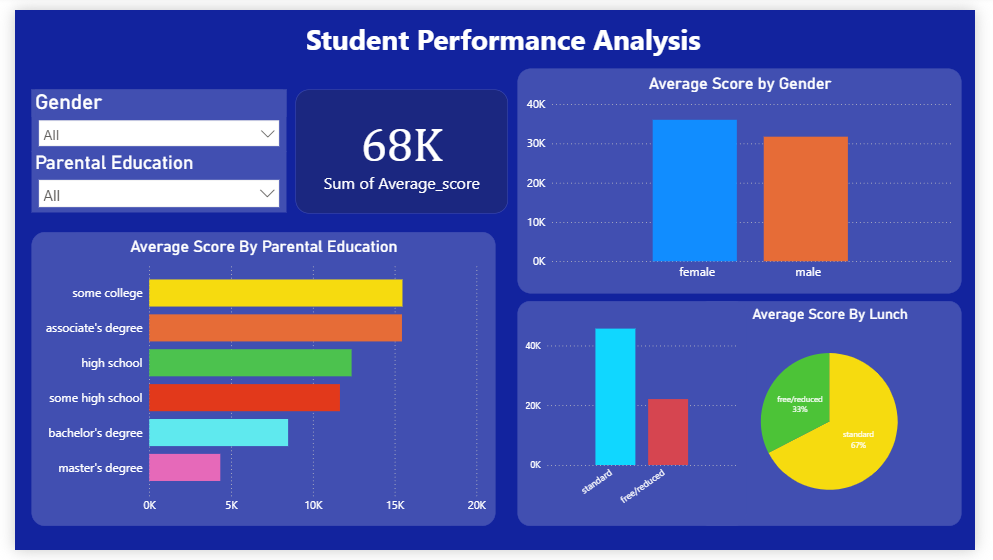

This screenshot's page, from the dashboard's own definition file:
{"tool":"powerbi","page":{"name":"Page 1","canvas":[1280,720],"ordinal":0},"visuals":[{"type":"pieChart","title":"Average Score By Lunch","fields":{"Y":["Sum(study_performance.Average_score)"],"Category":["study_performance.lunch"]},"box":[910,388,352,300],"z":0},{"type":"slicer","title":"Gender","fields":{"Values":["study_performance.gender"]},"box":[21.7,105,340,83.3],"z":1000},{"type":"columnChart","title":"Average Score by Gender","fields":{"Category":["study_performance.gender"],"Y":["Sum(study_performance.Average_score)"]},"box":[670,78,592,300],"z":2000},{"type":"card","fields":{"Values":["Sum(study_performance.Average_score)"]},"box":[373.3,105,283.3,165],"z":2500},{"type":"clusteredBarChart","title":"Average Score By Parental Education","fields":{"Y":["Sum(study_performance.Average_score)"],"Category":["study_performance.parental_level_of_education"]},"box":[21.7,296.7,618.3,391.7],"z":3000},{"type":"textbox","box":[22,8,1258,70],"z":5000},{"type":"slicer","title":"Parental Education","fields":{"Values":["study_performance.parental_level_of_education"]},"box":[21.7,188.3,340,81.7],"z":6000},{"type":"columnChart","fields":{"Category":["study_performance.lunch"],"Y":["Sum(study_performance.Average_score)"]},"box":[670,388.3,305,300],"z":8000}]}

Visuals, with their boxes in screenshot pixels (x1, y1, x2, y2), scaled from the page's 1280x720 canvas onto the 993x560 screenshot:
"Average Score By Lunch" pieChart: {"x1": 706, "y1": 302, "x2": 979, "y2": 535}
"Gender" slicer: {"x1": 17, "y1": 82, "x2": 281, "y2": 146}
"Average Score by Gender" columnChart: {"x1": 520, "y1": 61, "x2": 979, "y2": 294}
card - Sum(study_performance.Average_score): {"x1": 290, "y1": 82, "x2": 509, "y2": 210}
"Average Score By Parental Education" clusteredBarChart: {"x1": 17, "y1": 231, "x2": 496, "y2": 535}
textbox: {"x1": 17, "y1": 6, "x2": 992, "y2": 61}
"Parental Education" slicer: {"x1": 17, "y1": 146, "x2": 281, "y2": 210}
columnChart - study_performance.lunch x Sum(study_performance.Average_score): {"x1": 520, "y1": 302, "x2": 756, "y2": 535}
